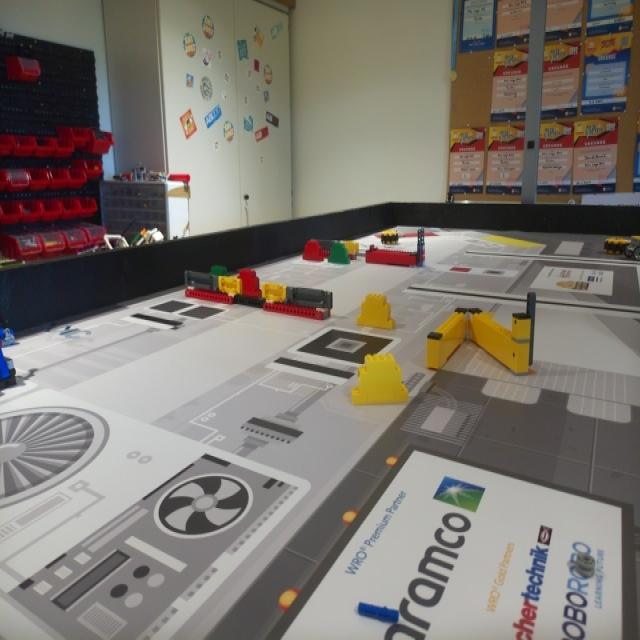gruen: (328, 244, 351, 264), (210, 266, 227, 277)
rot: (240, 269, 260, 294), (304, 240, 322, 262)
yellow: (354, 352, 409, 406), (355, 294, 394, 330)
